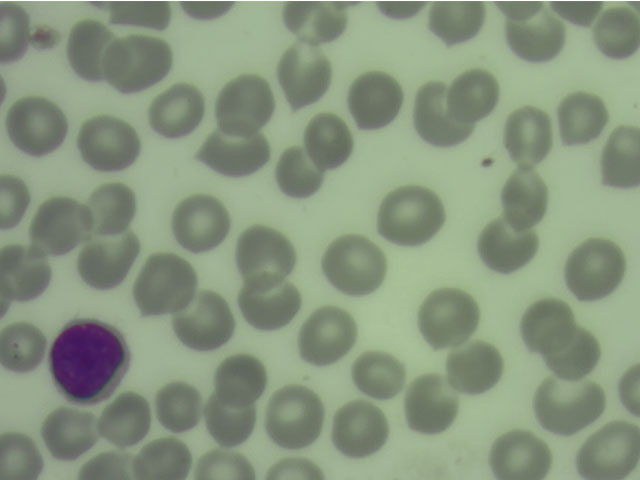RBC: (279, 40, 333, 105), (108, 38, 173, 85), (406, 379, 461, 431), (351, 349, 405, 401), (521, 298, 575, 350), (568, 242, 622, 294), (481, 220, 535, 272), (552, 93, 606, 145), (502, 111, 556, 163), (586, 4, 640, 56), (509, 7, 563, 59), (499, 173, 553, 225), (420, 291, 474, 343), (327, 241, 381, 293), (243, 276, 297, 328), (334, 397, 388, 449), (268, 389, 322, 441), (204, 393, 258, 445), (214, 350, 268, 402), (149, 379, 203, 431), (96, 393, 150, 445), (45, 407, 99, 459), (416, 91, 470, 143), (449, 70, 503, 122), (384, 188, 438, 240), (240, 228, 294, 280), (178, 295, 232, 347), (347, 72, 401, 124), (274, 146, 328, 198), (303, 113, 357, 165), (209, 127, 263, 179), (217, 78, 271, 130), (133, 260, 187, 312), (76, 237, 130, 289), (31, 198, 85, 250), (83, 183, 137, 235), (177, 197, 231, 249), (151, 86, 205, 138), (63, 26, 117, 78), (80, 119, 134, 171), (10, 101, 64, 153), (300, 310, 354, 362), (449, 341, 503, 393), (580, 428, 634, 480), (494, 428, 548, 480), (542, 375, 596, 427), (545, 326, 599, 378), (600, 129, 640, 194), (428, 1, 484, 47), (289, 1, 351, 41), (1, 425, 43, 480), (1, 248, 49, 296), (1, 323, 46, 373), (109, 1, 174, 33), (1, 5, 35, 64), (135, 444, 189, 479), (262, 451, 325, 480), (194, 454, 257, 480), (612, 365, 640, 418), (1, 175, 30, 225)
WBC: (46, 319, 132, 404)
